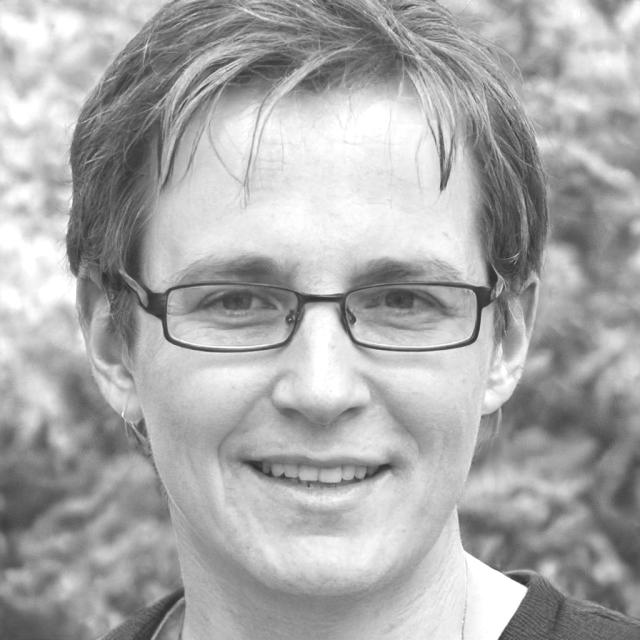lens: (346, 285, 478, 349), (168, 285, 299, 347)
